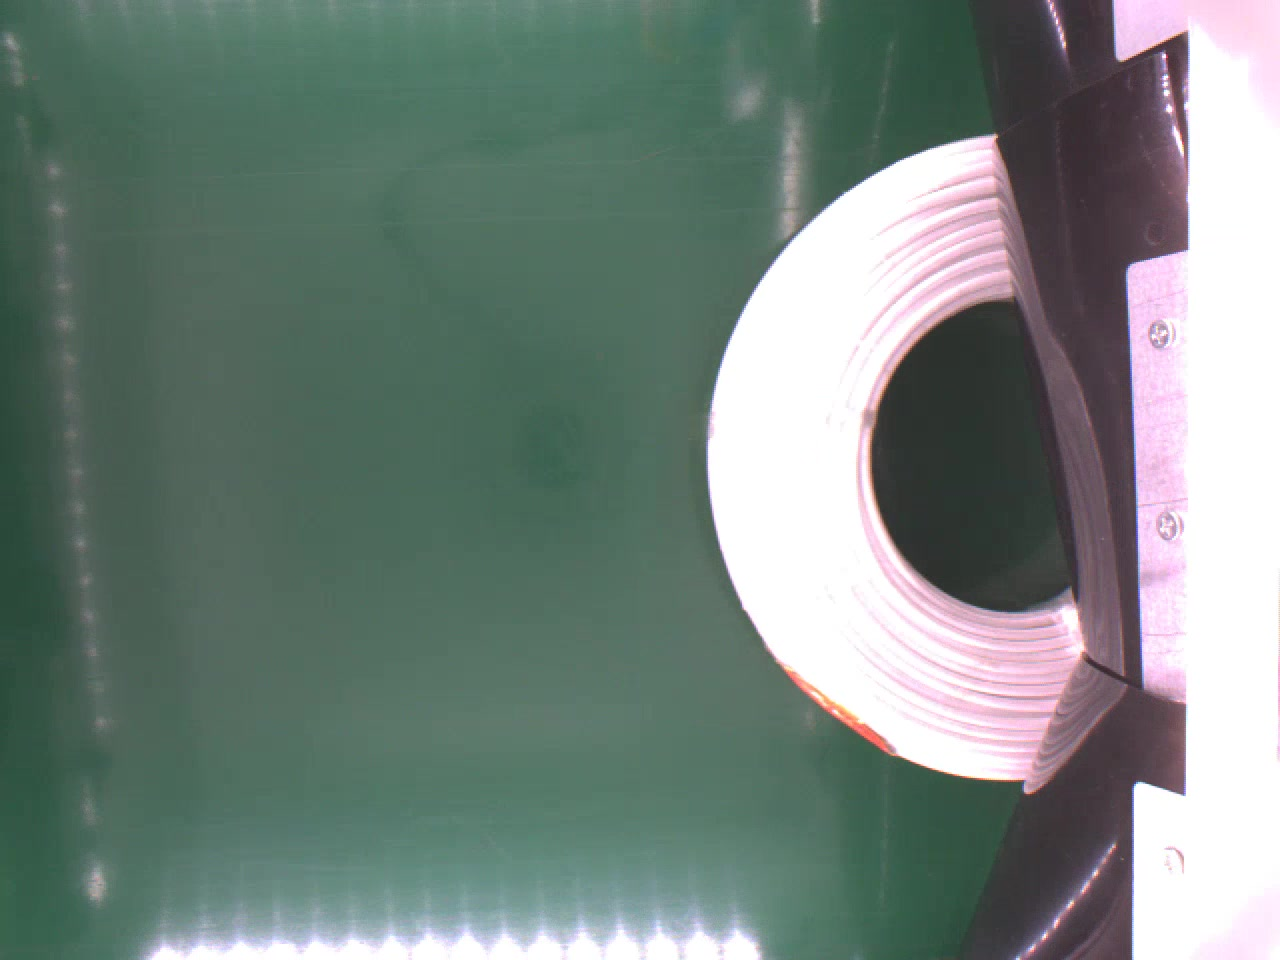white: (703, 132, 1085, 785)
